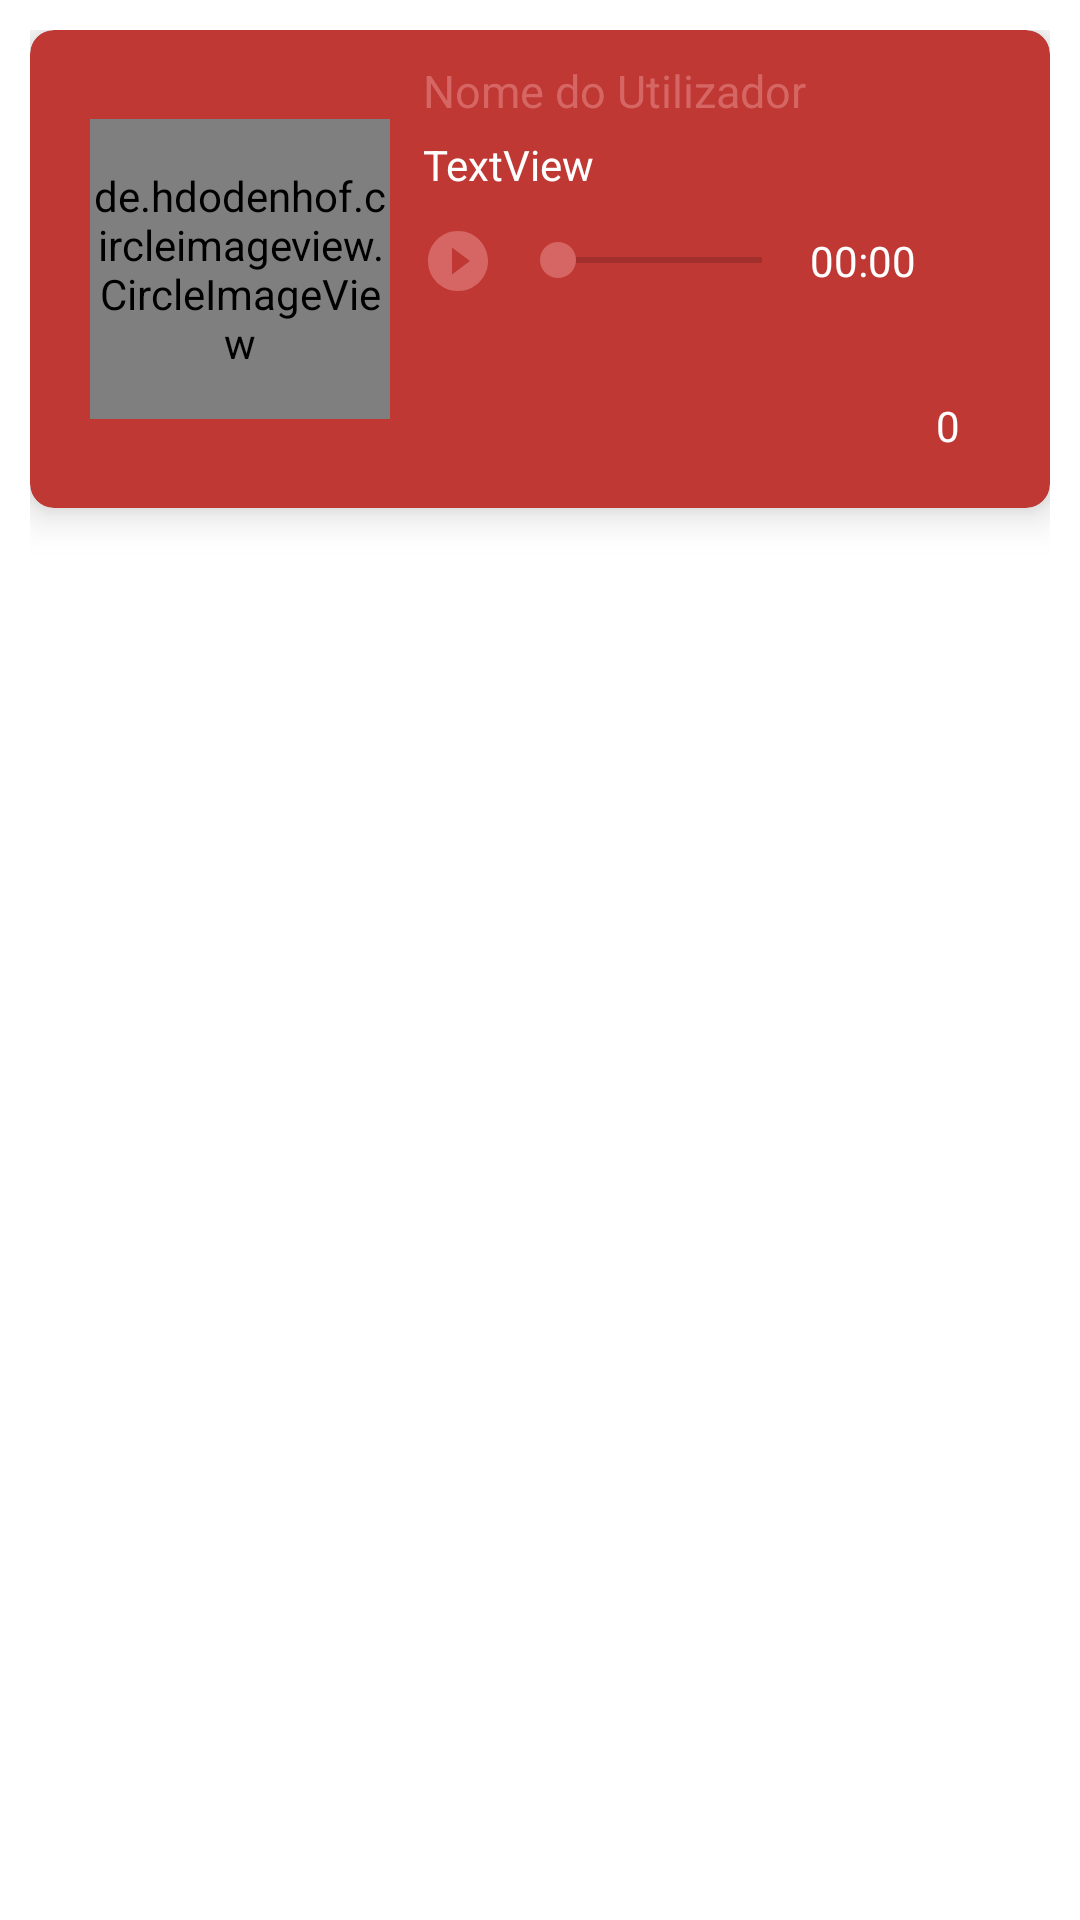

Locate icon controls on the screen. Image size 1080px×1920px, boxes as bbox=(x1, y1, x2, y2).
play circle: bbox=(428, 231, 488, 291)
